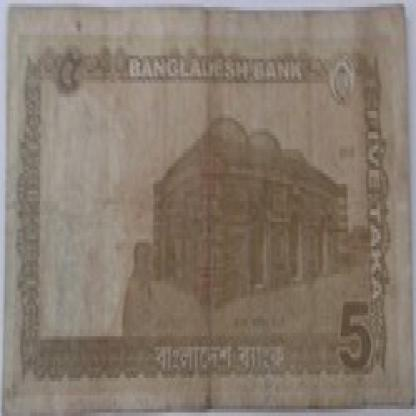Five Taka: (336, 288, 376, 388), (50, 42, 88, 114)
